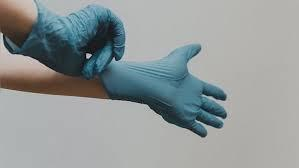Glove: (100, 44, 226, 136), (4, 0, 124, 78)
